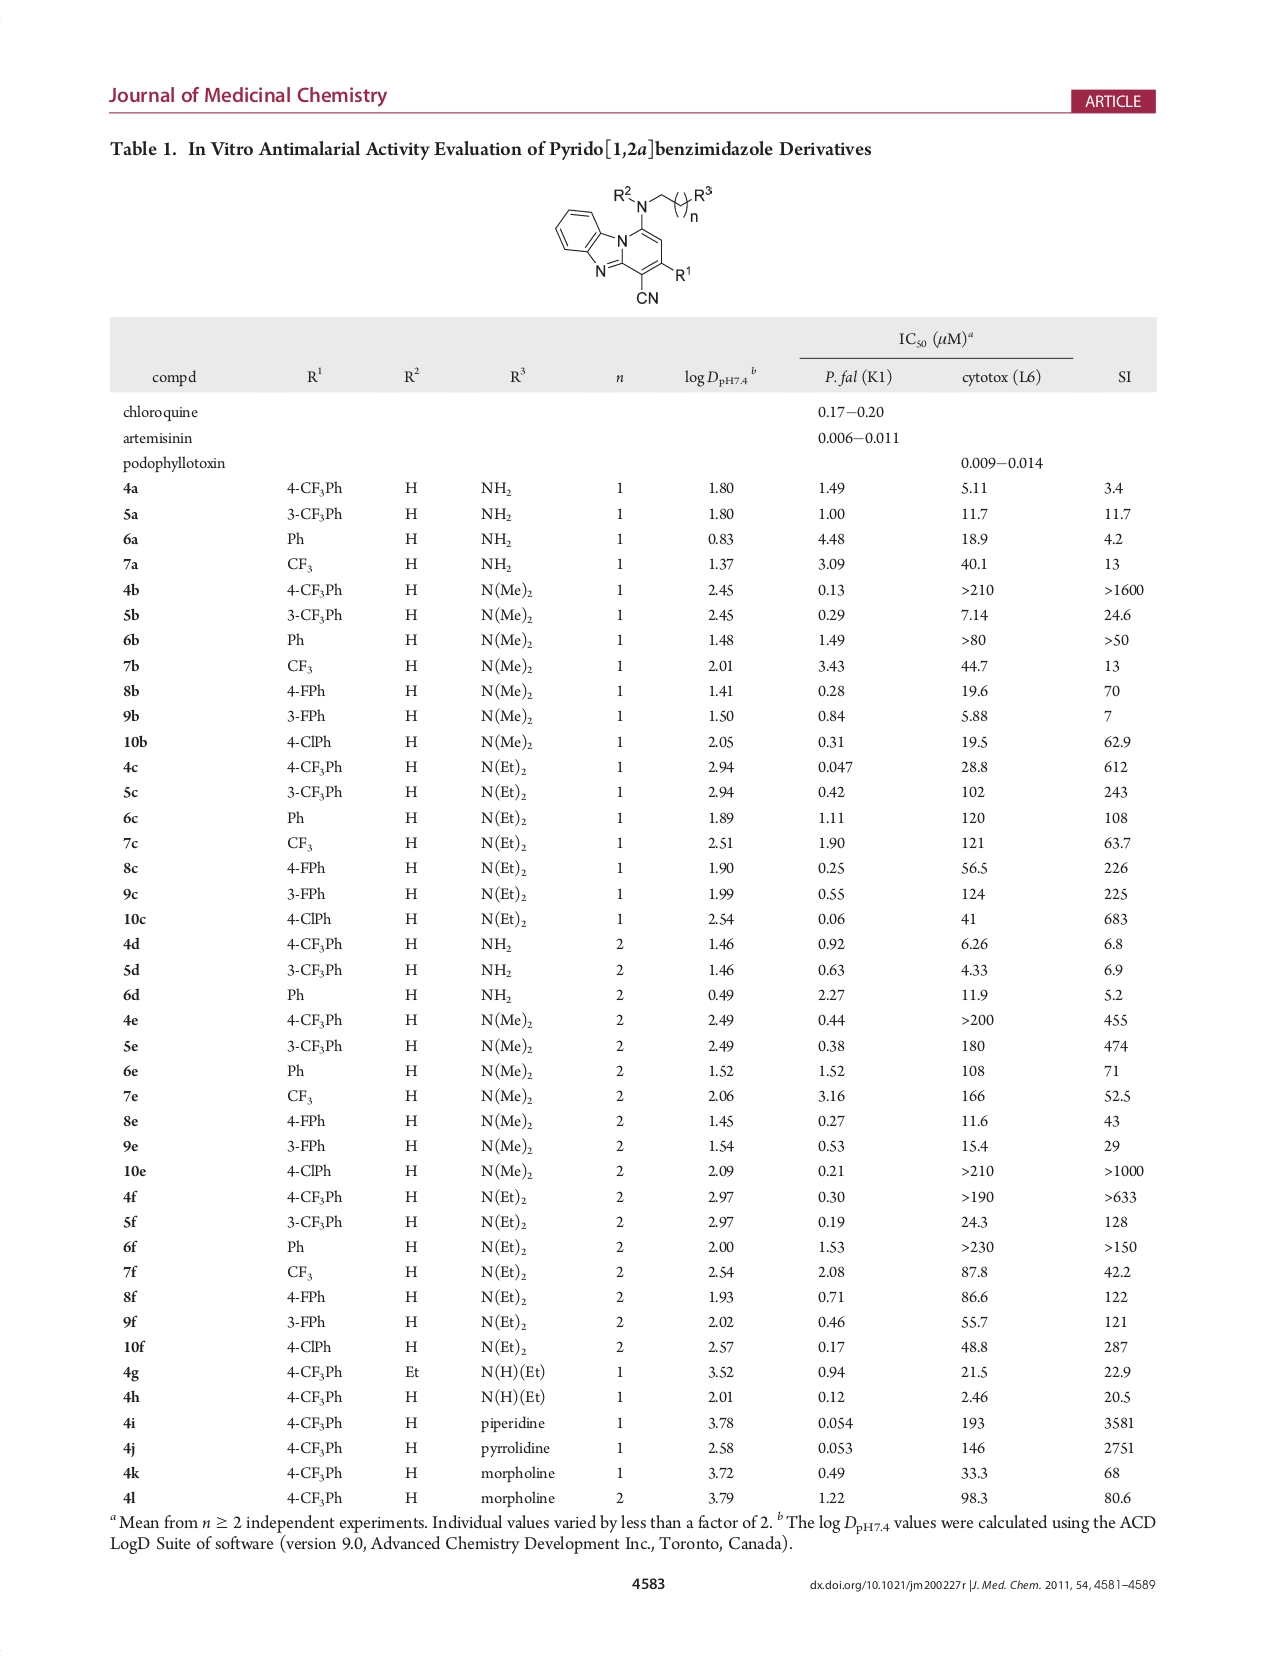exist_molecular: (548, 182, 715, 307)
